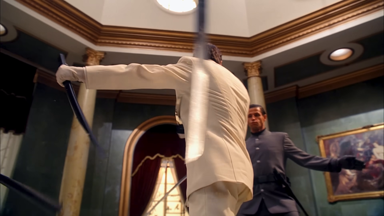bladed_weapon: (53, 51, 111, 160), (181, 1, 209, 160), (0, 172, 65, 214), (142, 172, 187, 214)
